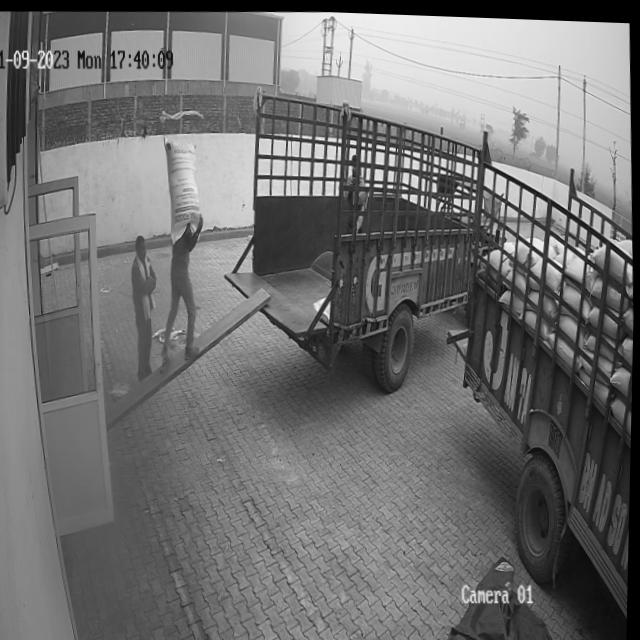sack: (162, 130, 202, 244)
